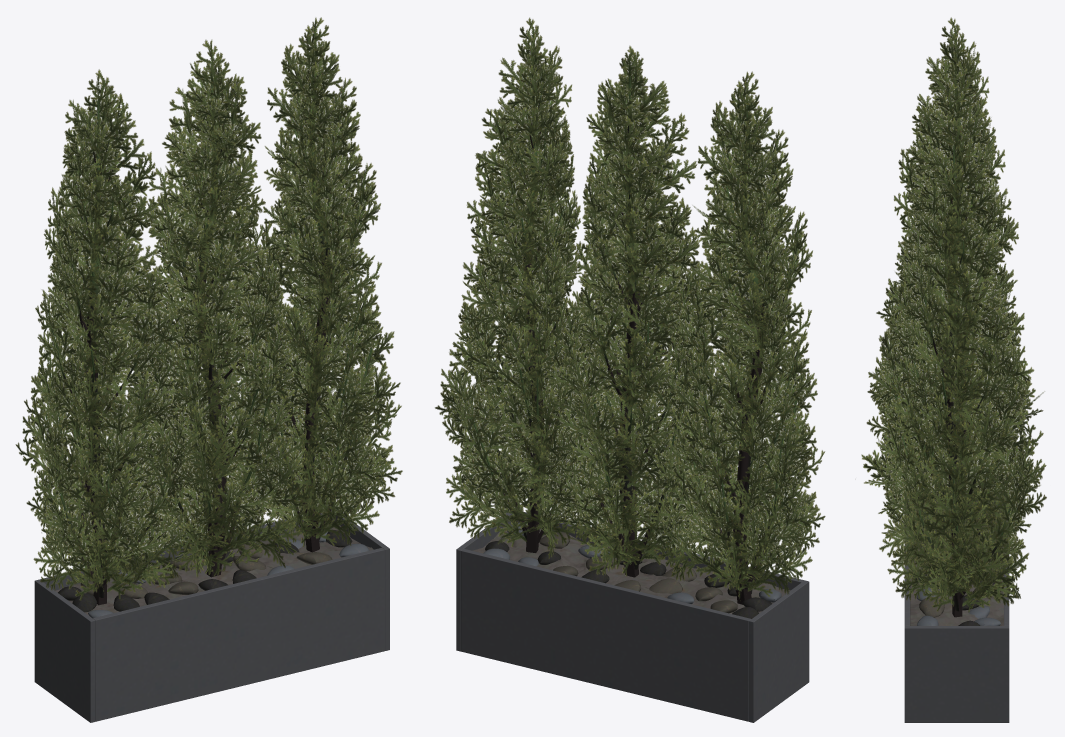
Rendered from double_has.glb.
3 renders of one model, left to right at view 1: azimuth 30°, elevation 25°; view 2: azimuth 150°, elevation 25°; view 3: azimuth 270°, elevation 25°, orthographic. The views are drawn at different scales.
Parts seen in each view (by area): view 1: 2_media\gen\BZO\q\r\c\wda4ahsok1wt0lj-vba__r2__.bzo_3, 1_media\gen\BZO\q\r\c\wda4ahsok1wt0lj-vba__r2__.bzo_2, 0_media\gen\BZO\q\r\c\wda4ahsok1wt0lj-vba__r2__.bzo_1, 4_media\gen\BZO\q\r\c\wda4ahsok1wt0lj-vba__r2__.bzo_5, 3_media\gen\BZO\q\r\c\wda4ahsok1wt0lj-vba__r2__.bzo_4; view 2: 2_media\gen\BZO\q\r\c\wda4ahsok1wt0lj-vba__r2__.bzo_3, 1_media\gen\BZO\q\r\c\wda4ahsok1wt0lj-vba__r2__.bzo_2, 0_media\gen\BZO\q\r\c\wda4ahsok1wt0lj-vba__r2__.bzo_1, 4_media\gen\BZO\q\r\c\wda4ahsok1wt0lj-vba__r2__.bzo_5, 3_media\gen\BZO\q\r\c\wda4ahsok1wt0lj-vba__r2__.bzo_4; view 3: 2_media\gen\BZO\q\r\c\wda4ahsok1wt0lj-vba__r2__.bzo_3, 1_media\gen\BZO\q\r\c\wda4ahsok1wt0lj-vba__r2__.bzo_2, 0_media\gen\BZO\q\r\c\wda4ahsok1wt0lj-vba__r2__.bzo_1, 4_media\gen\BZO\q\r\c\wda4ahsok1wt0lj-vba__r2__.bzo_5, 3_media\gen\BZO\q\r\c\wda4ahsok1wt0lj-vba__r2__.bzo_4.
Boxes of the visible parts, bbox=[...] form: 2_media\gen\BZO\q\r\c\wda4ahsok1wt0lj-vba__r2__.bzo_3: bbox=[15, 17, 402, 600]; 1_media\gen\BZO\q\r\c\wda4ahsok1wt0lj-vba__r2__.bzo_2: bbox=[34, 510, 389, 722]; 0_media\gen\BZO\q\r\c\wda4ahsok1wt0lj-vba__r2__.bzo_1: bbox=[45, 47, 372, 605]; 4_media\gen\BZO\q\r\c\wda4ahsok1wt0lj-vba__r2__.bzo_5: bbox=[58, 522, 369, 618]; 3_media\gen\BZO\q\r\c\wda4ahsok1wt0lj-vba__r2__.bzo_4: bbox=[55, 525, 373, 615]; 2_media\gen\BZO\q\r\c\wda4ahsok1wt0lj-vba__r2__.bzo_3: bbox=[435, 17, 825, 600]; 1_media\gen\BZO\q\r\c\wda4ahsok1wt0lj-vba__r2__.bzo_2: bbox=[456, 512, 809, 722]; 0_media\gen\BZO\q\r\c\wda4ahsok1wt0lj-vba__r2__.bzo_1: bbox=[470, 52, 796, 604]; 4_media\gen\BZO\q\r\c\wda4ahsok1wt0lj-vba__r2__.bzo_5: bbox=[483, 523, 781, 618]; 3_media\gen\BZO\q\r\c\wda4ahsok1wt0lj-vba__r2__.bzo_4: bbox=[472, 524, 790, 613]; 2_media\gen\BZO\q\r\c\wda4ahsok1wt0lj-vba__r2__.bzo_3: bbox=[861, 17, 1046, 612]; 1_media\gen\BZO\q\r\c\wda4ahsok1wt0lj-vba__r2__.bzo_2: bbox=[904, 492, 1009, 722]; 0_media\gen\BZO\q\r\c\wda4ahsok1wt0lj-vba__r2__.bzo_1: bbox=[891, 62, 1016, 617]; 4_media\gen\BZO\q\r\c\wda4ahsok1wt0lj-vba__r2__.bzo_5: bbox=[915, 504, 1002, 625]; 3_media\gen\BZO\q\r\c\wda4ahsok1wt0lj-vba__r2__.bzo_4: bbox=[910, 503, 1003, 625].
Bounding box in the file's own units: 1.18 × 1.89 × 0.5696.
Materials: 5 (5 with a texture image).
